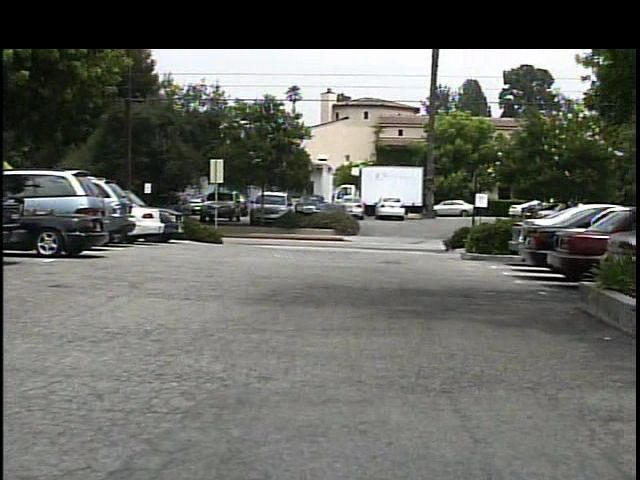person: (174, 196, 195, 236)
